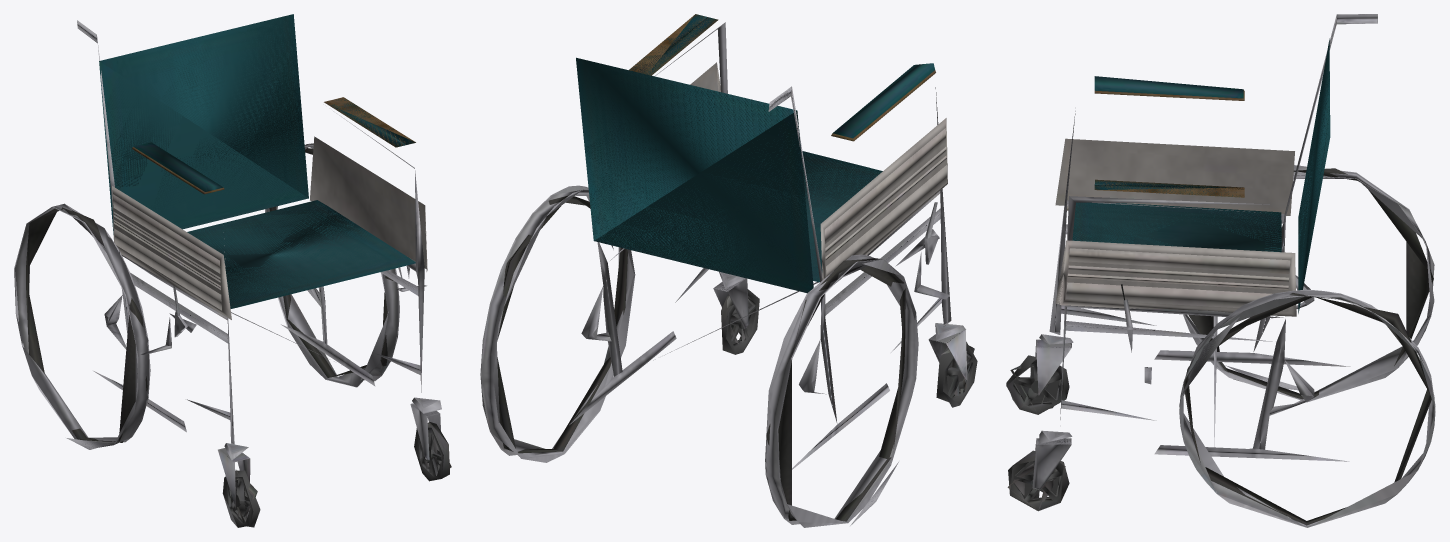
The model's file is wheelchair_01.glb.
3 renders of one model, left to right at view 1: azimuth 30°, elevation 25°; view 2: azimuth 150°, elevation 25°; view 3: azimuth 270°, elevation 25°, orthographic. The views are drawn at different scales.
Parts seen in each view (by area): view 1: wheelchair_01; view 2: wheelchair_01; view 3: wheelchair_01.
Boxes of the visible parts, left/top/right/bottom form: wheelchair_01: left=14, top=14, right=451, bottom=527; wheelchair_01: left=480, top=14, right=977, bottom=527; wheelchair_01: left=1006, top=14, right=1435, bottom=527.
Bounding box in the file's own units: 0.8241 × 1.07 × 1.05.
Materials: 1 (1 with a texture image).
